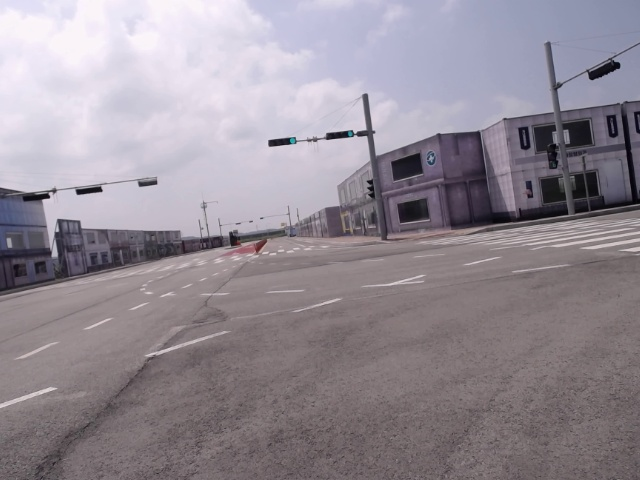straight_green_4: (270, 137, 297, 149), (325, 131, 354, 139)
